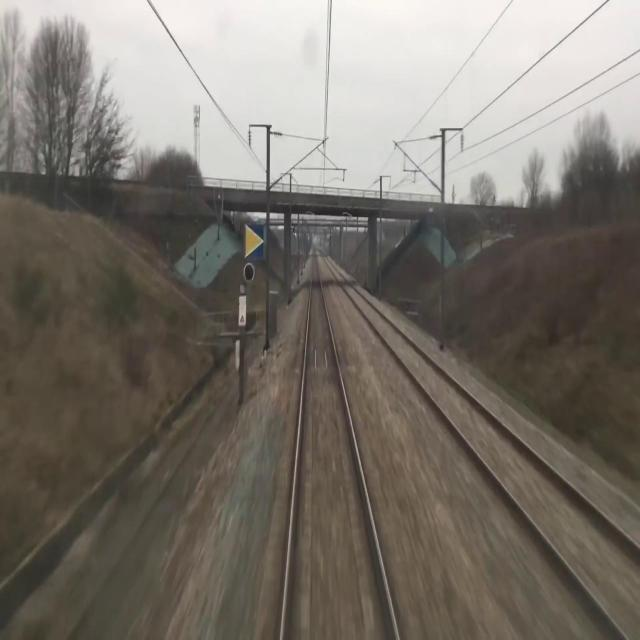rail-track: (318, 248, 640, 639), (284, 247, 395, 639)
